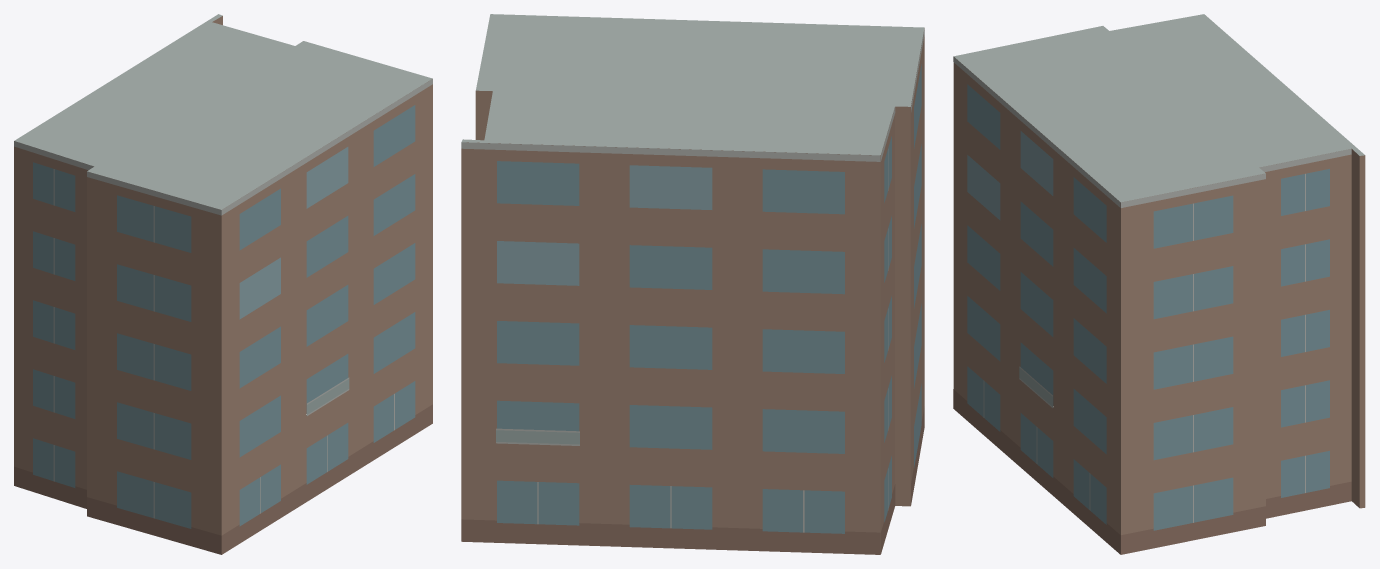
File: survey-upis-32953522.glb
3 renders of one model, left to right at view 1: azimuth 30°, elevation 25°; view 2: azimuth 150°, elevation 25°; view 3: azimuth 270°, elevation 25°, orthographic. The views are drawn at different scales.
Visible parts, largest first — view 1: survey-upis-32953522.tmp; view 2: survey-upis-32953522.tmp; view 3: survey-upis-32953522.tmp.
Part boxes in pixels (<box>): survey-upis-32953522.tmp: <box>14,14,432,554</box>; survey-upis-32953522.tmp: <box>461,14,924,554</box>; survey-upis-32953522.tmp: <box>953,14,1365,554</box>.
Size of the model in its own units: 17.09 by 14.9 by 15.79.
